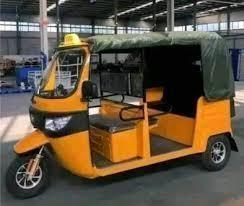keke: (4, 32, 244, 203)
